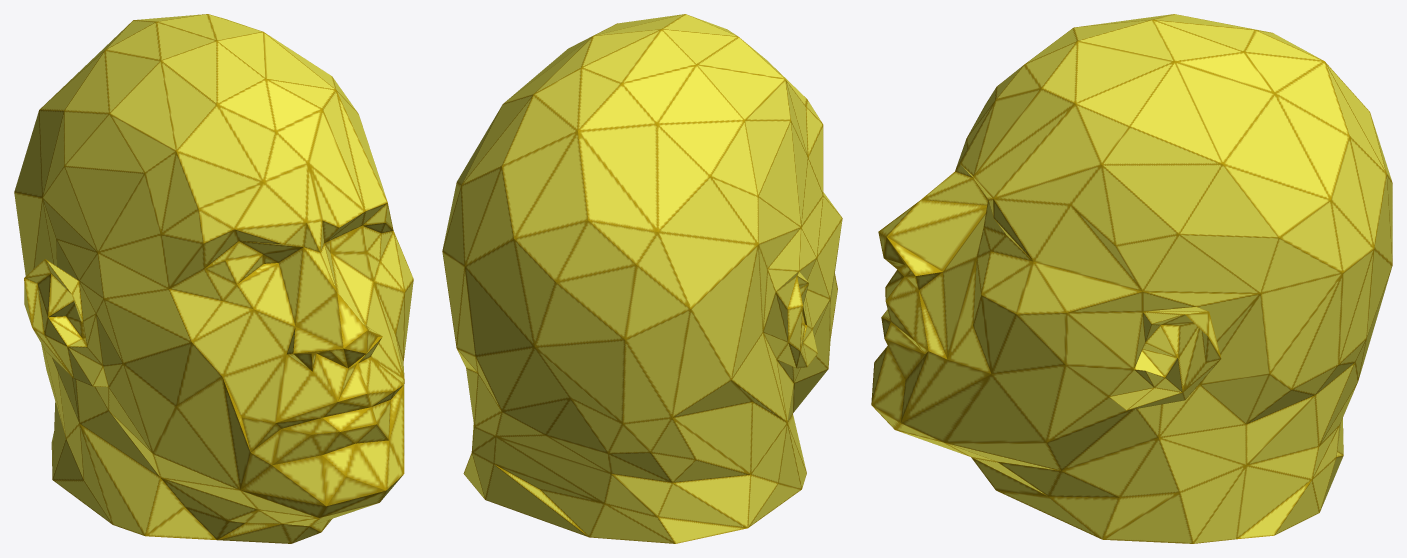
The model's file is TheRock.obj.
The picture shows the model from 3 angles, left to right: view 1: azimuth 30°, elevation 25°; view 2: azimuth 150°, elevation 25°; view 3: azimuth 270°, elevation 25°; orthographic projection. The views are drawn at different scales.
Visible parts, largest first — view 1: LowPoly_Rock; view 2: LowPoly_Rock; view 3: LowPoly_Rock.
Boxes of the visible parts, box(x1,y1,x2,y2) form: LowPoly_Rock: box(14, 14, 413, 543); LowPoly_Rock: box(442, 14, 842, 543); LowPoly_Rock: box(871, 14, 1392, 543).
Size of the model in its own units: 150 by 183 by 189.
1 material, 1 textured.
